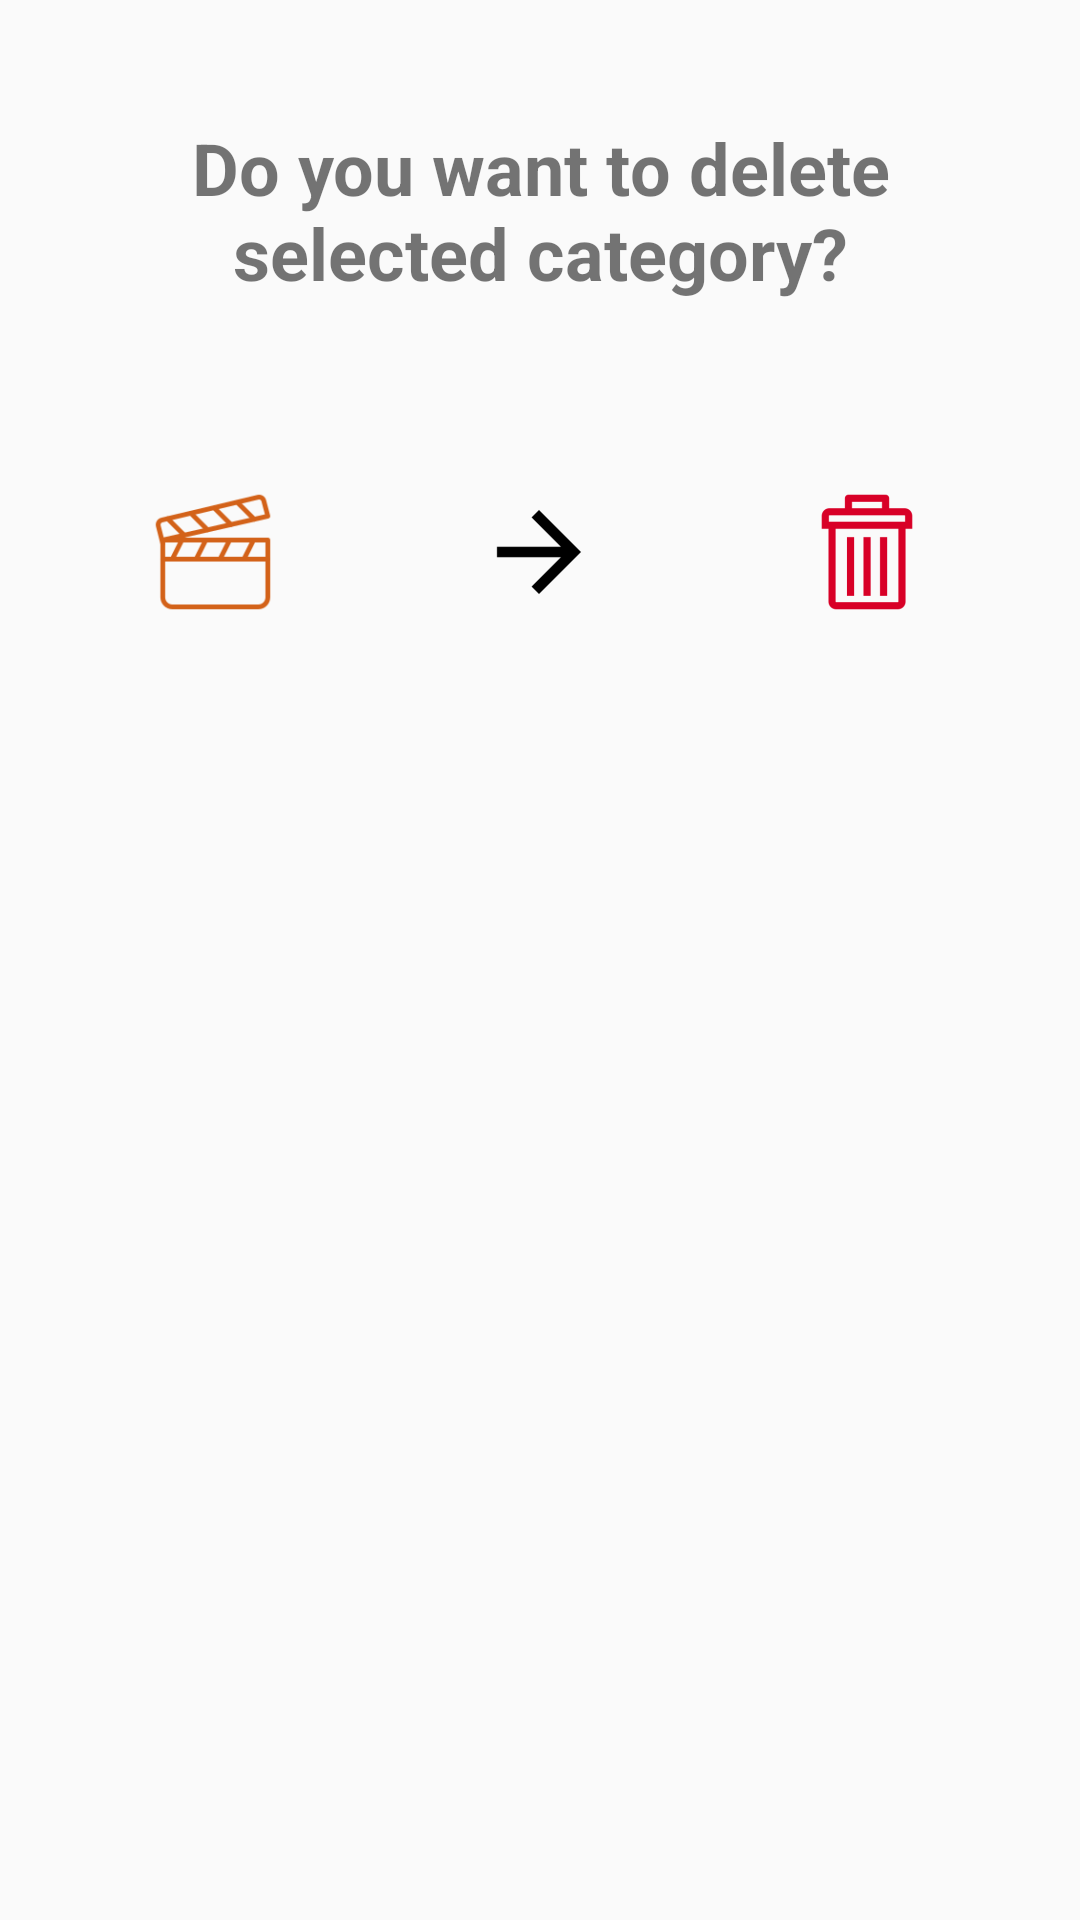

Icons on this 1080 x 1920 Android screen, each with its box as (x1, y1, x2, y2):
arrow right: (496, 510, 581, 594)
movie: (155, 494, 271, 610)
rubbish bin: (821, 494, 913, 610)
